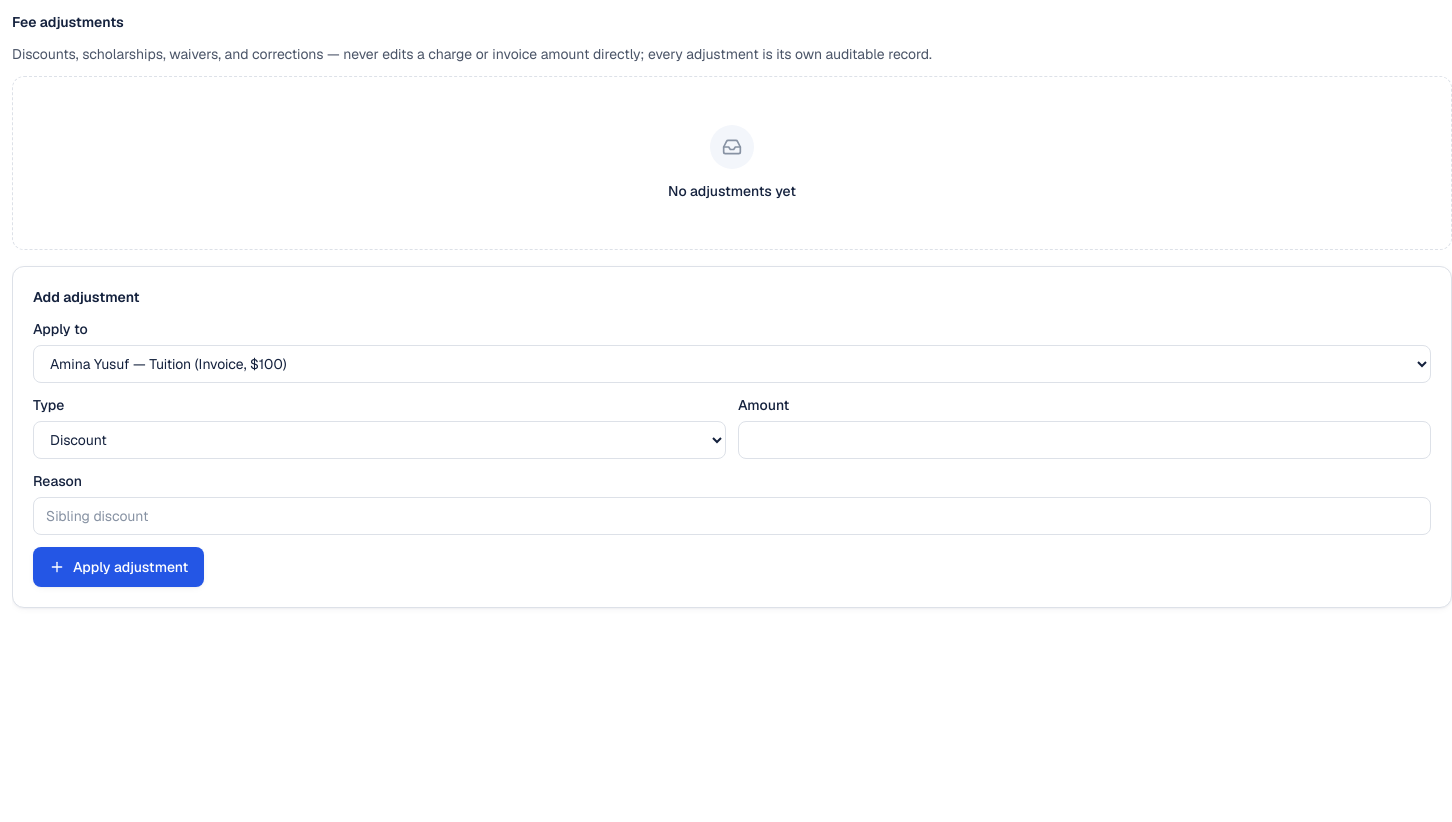
Scenario: FeeAdjustmentsTab — create adjustment (mutation) › shows the ApiError's message inline (not a toast) when creating fails
Expected: the heading "Add adjustment" is shown, 33,288 -> 140,306
Type "Reason" into the field with placeholder "Sibling discount" at (732, 516), box 33,497 -> 1431,535
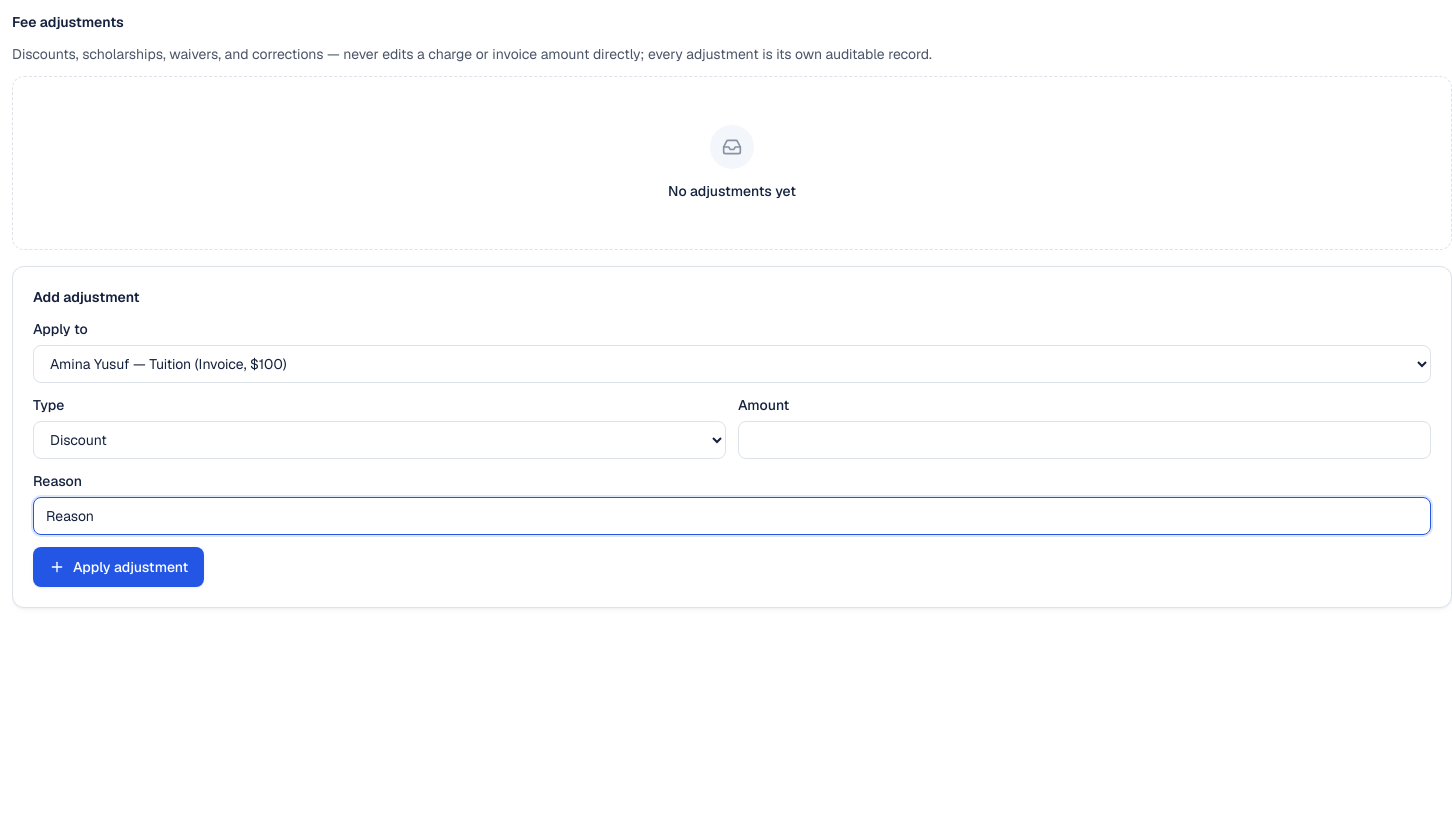
Type "10" into the number field at (1084, 440), box 738,421 -> 1431,459
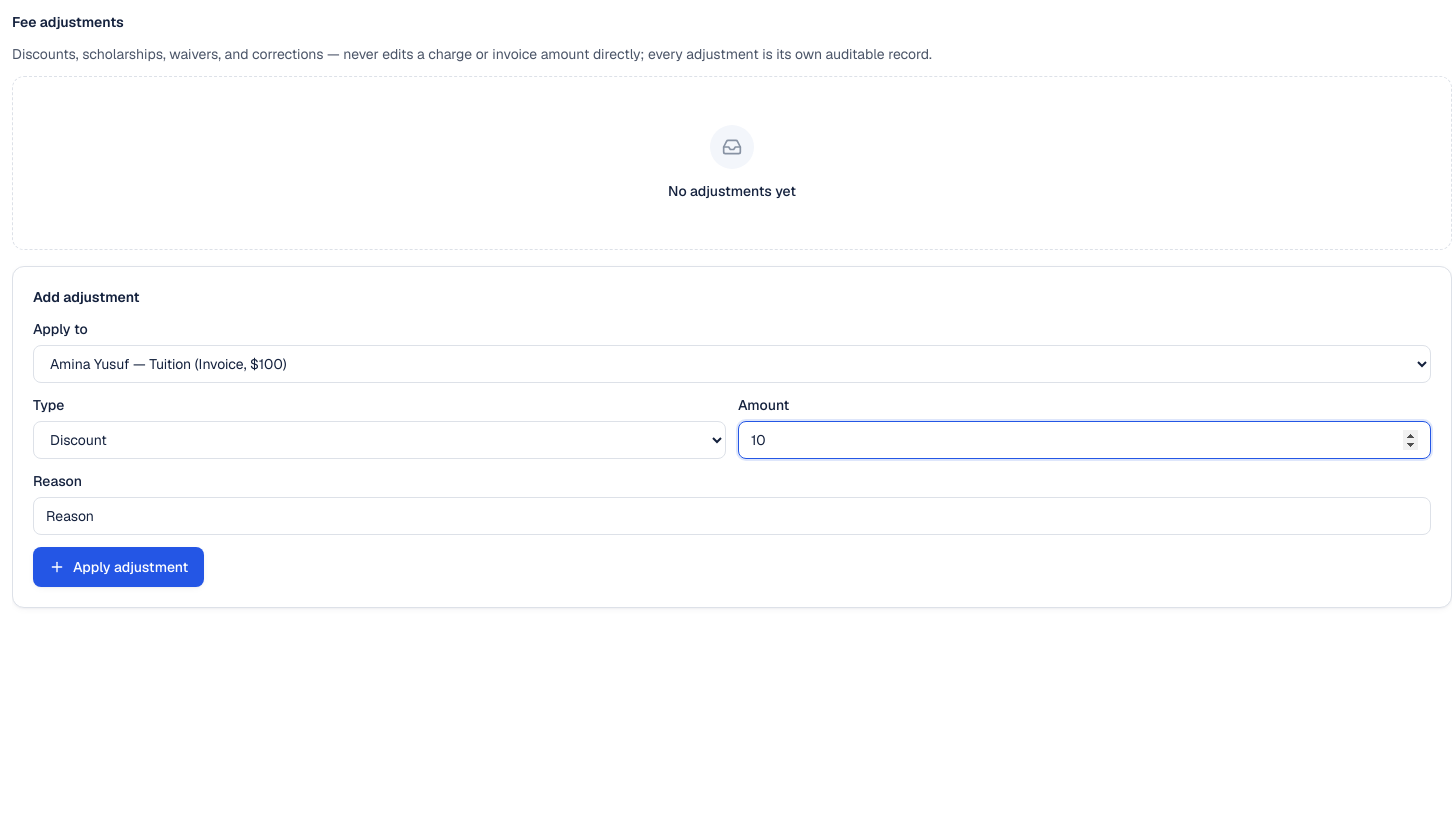
Click the button "Apply adjustment" at (119, 567), box 33,547 -> 204,587
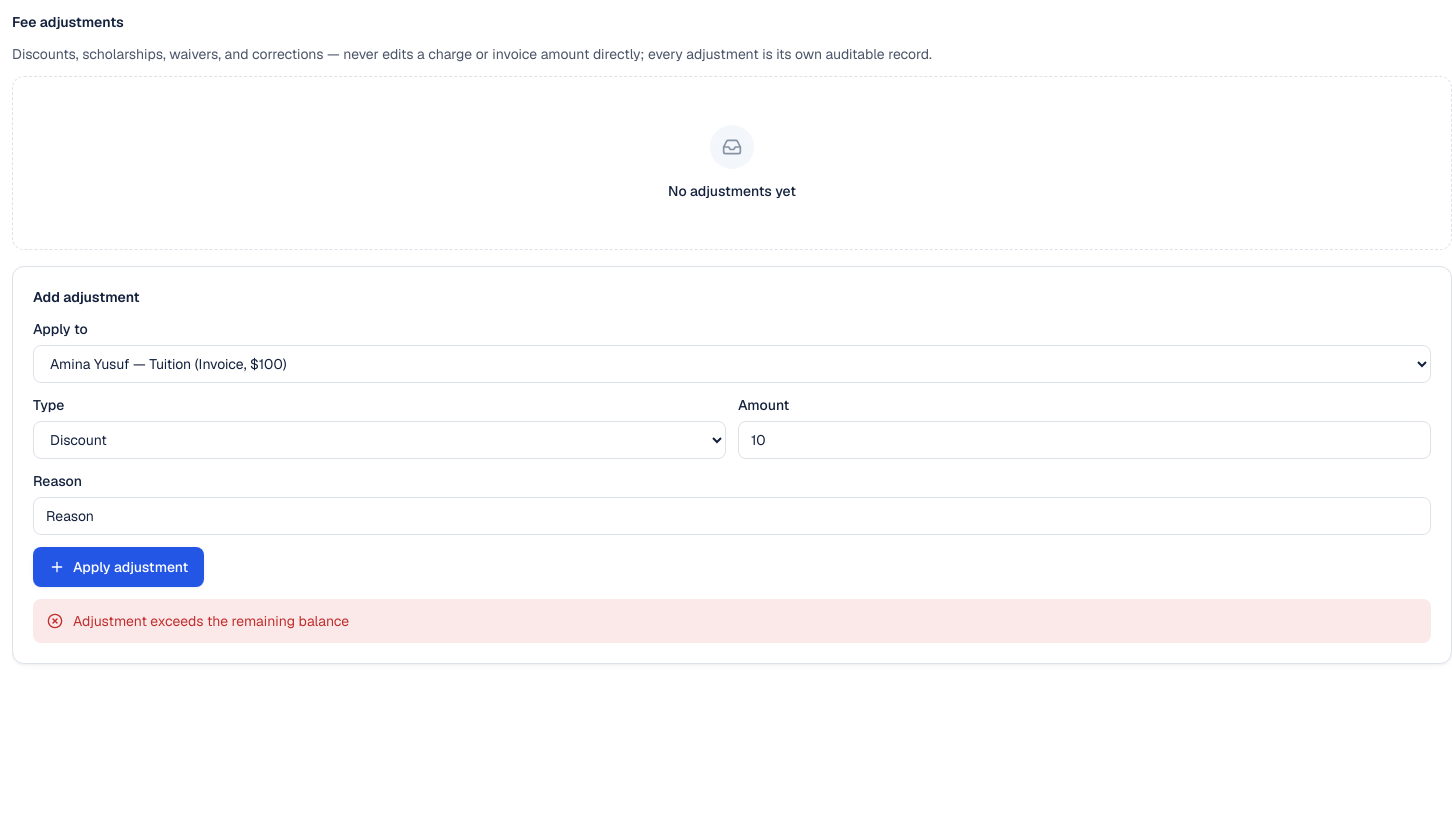
Expected: the text "Adjustment exceeds the remaining balance" is shown, 73,611 -> 349,631
